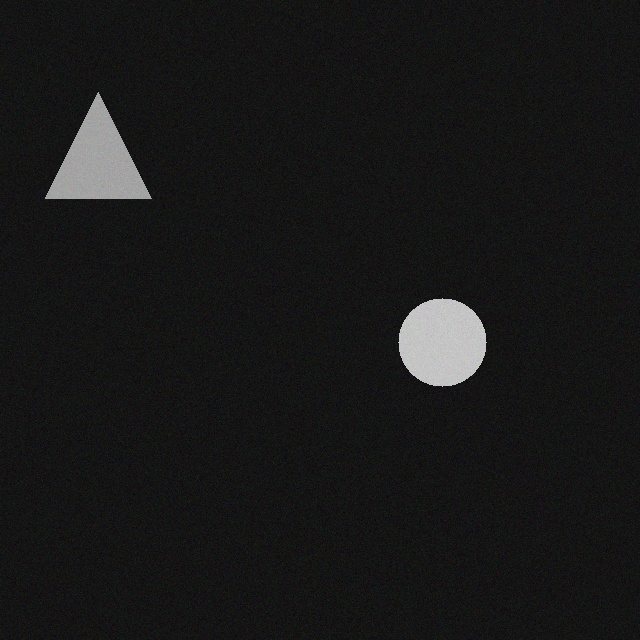circle: (394, 290, 482, 378)
triangle: (41, 84, 147, 190)
